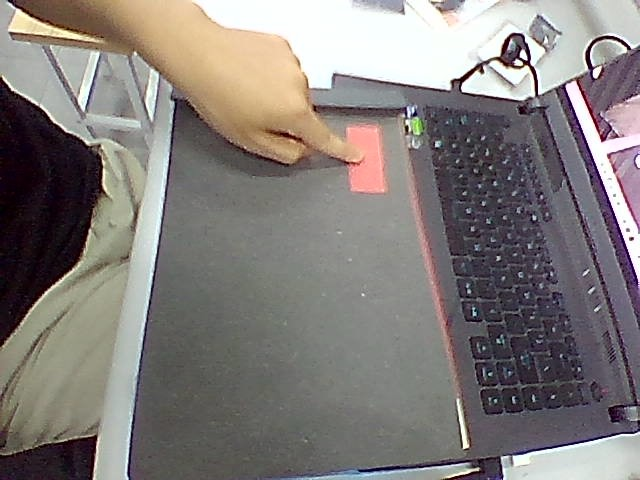card: (347, 124, 387, 193)
